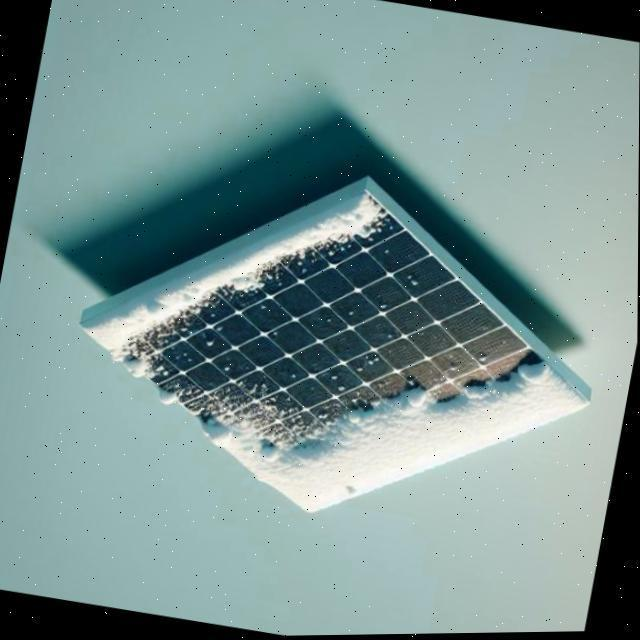Anomaly Solar Panel: (82, 148, 588, 589)
Snow: (81, 190, 411, 402), (184, 361, 594, 523), (157, 383, 188, 407)
